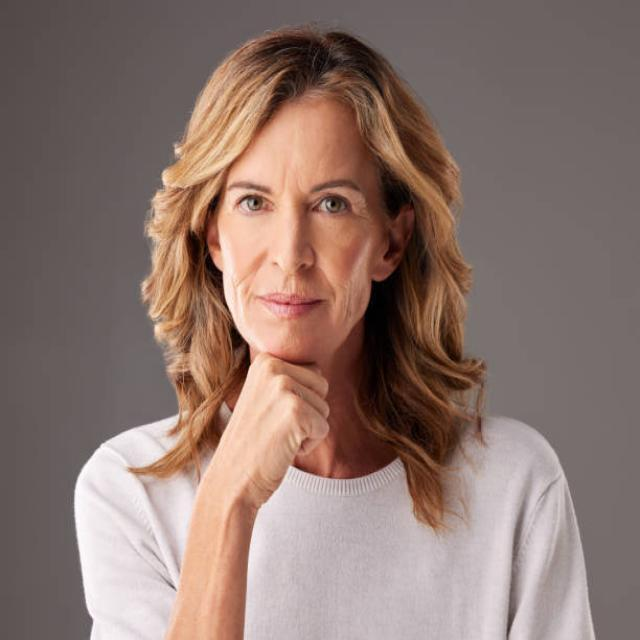dry: (322, 226, 386, 338), (254, 123, 350, 182)
